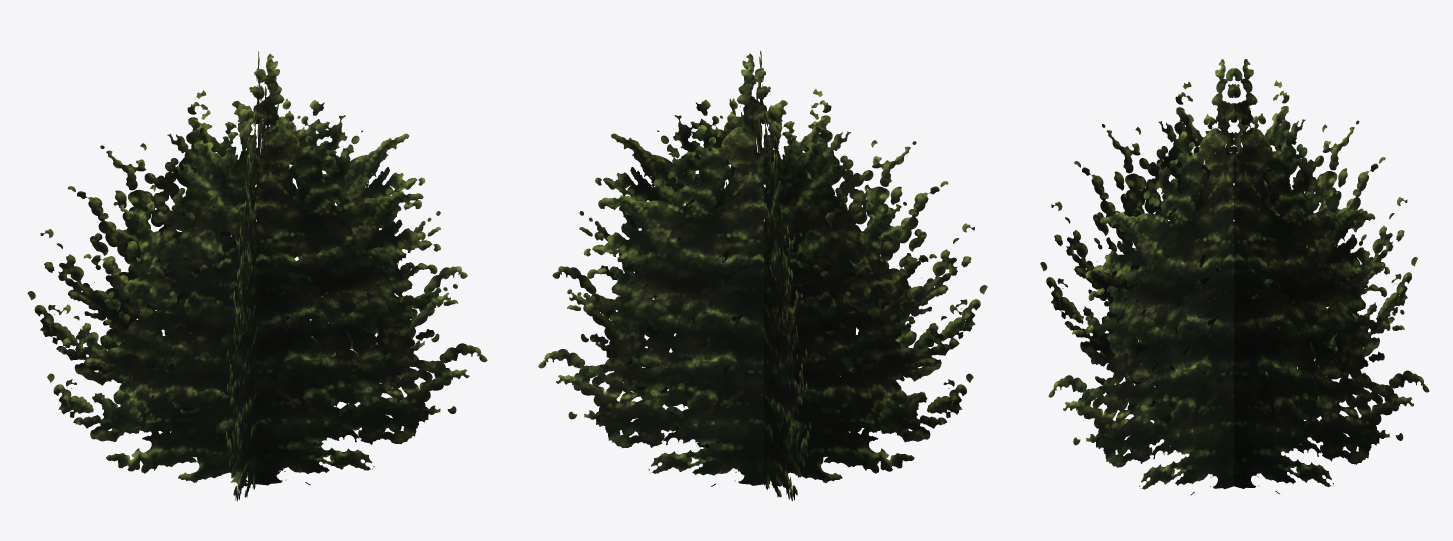
The model's file is Texture_Bush0.fbx.
The picture shows the model from 3 angles, left to right: view 1: azimuth 30°, elevation 25°; view 2: azimuth 150°, elevation 25°; view 3: azimuth 270°, elevation 25°; orthographic projection.
Parts seen in each view (by area): view 1: pasted__pPlane3 (×3), pPlane3, pasted__pasted__pPlane3 (×2); view 2: pasted__pPlane3 (×3), pPlane3, pasted__pasted__pPlane3 (×2); view 3: pasted__pPlane3 (×2), pasted__pasted__pPlane3 (×2).
Part boxes in pixels (bbox=[...]): pasted__pPlane3 (×3): bbox=[27, 51, 487, 501]; pPlane3: bbox=[47, 53, 467, 486]; pasted__pasted__pPlane3 (×2): bbox=[30, 53, 486, 500]; pasted__pPlane3 (×3): bbox=[538, 50, 987, 500]; pPlane3: bbox=[552, 53, 973, 486]; pasted__pasted__pPlane3 (×2): bbox=[539, 52, 986, 499]; pasted__pPlane3 (×2): bbox=[1040, 59, 1429, 495]; pasted__pasted__pPlane3 (×2): bbox=[1041, 60, 1426, 493].
Bounding box in the file's own units: 1 × 1.01 × 0.7928.
